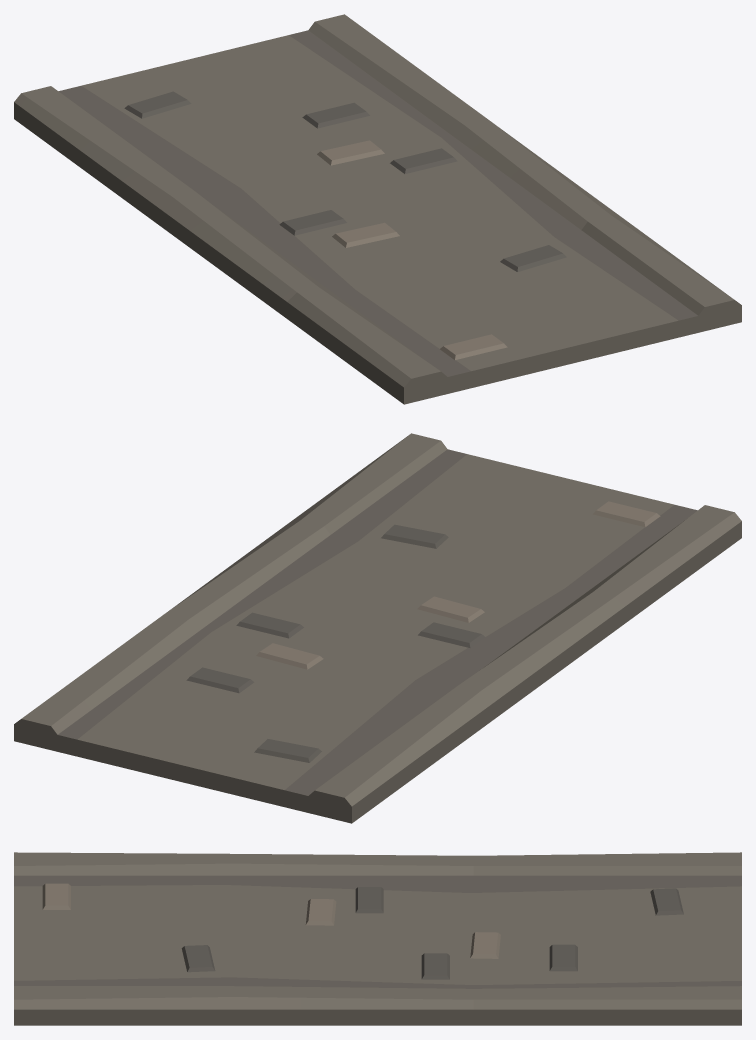
Rendered from SM_Env_Path_Straight_01.obj.
3 views of the same model, one above another, from view 1: azimuth 30°, elevation 25°; view 2: azimuth 150°, elevation 25°; view 3: azimuth 270°, elevation 25° (orthographic). The views are drawn at different scales.
Parts seen in each view (by area): view 1: SM_Env_Path_Straight_01_0; view 2: SM_Env_Path_Straight_01_0; view 3: SM_Env_Path_Straight_01_0.
Boxes of the visible parts, x1,y1,x2,y2 form: SM_Env_Path_Straight_01_0: (14, 14, 741, 404); SM_Env_Path_Straight_01_0: (14, 433, 741, 823); SM_Env_Path_Straight_01_0: (14, 852, 741, 1025).
Size of the model in its own units: 2.5 by 0.1705 by 5.
1 material, 1 textured.
